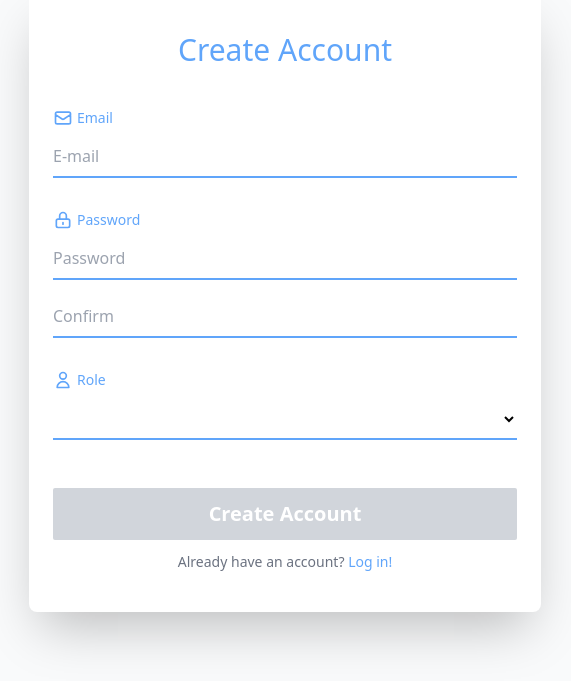
it: <CreateAccount /> › renders password not match error
Type "working@email.com" into the field with placeholder "E-mail" at (285, 157), box [53, 136, 517, 178]
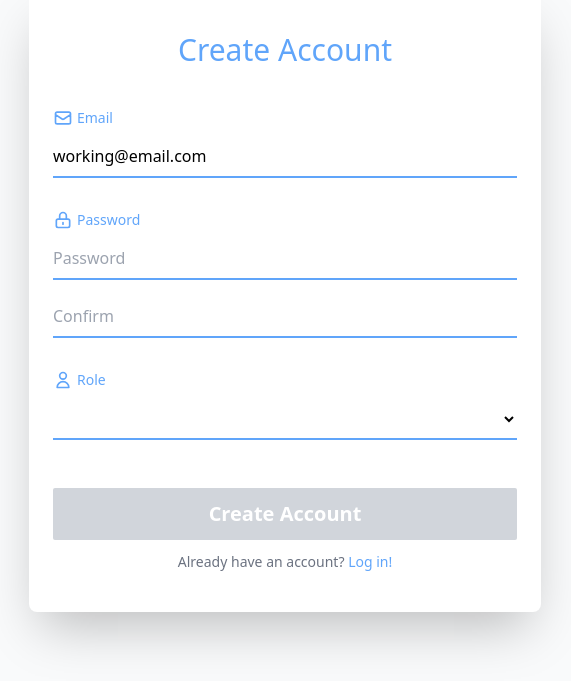
Type "aaaaaaaaaaaaa" into the password field with placeholder "Password" at (285, 259), box [53, 238, 517, 280]
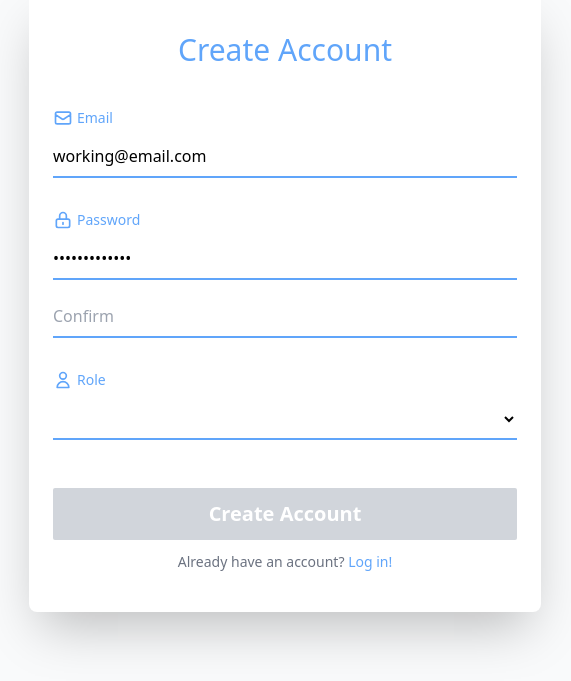
Type "bbbbbbbbbbbbb" into the password field with placeholder "Confirm" at (285, 317), box [53, 296, 517, 338]
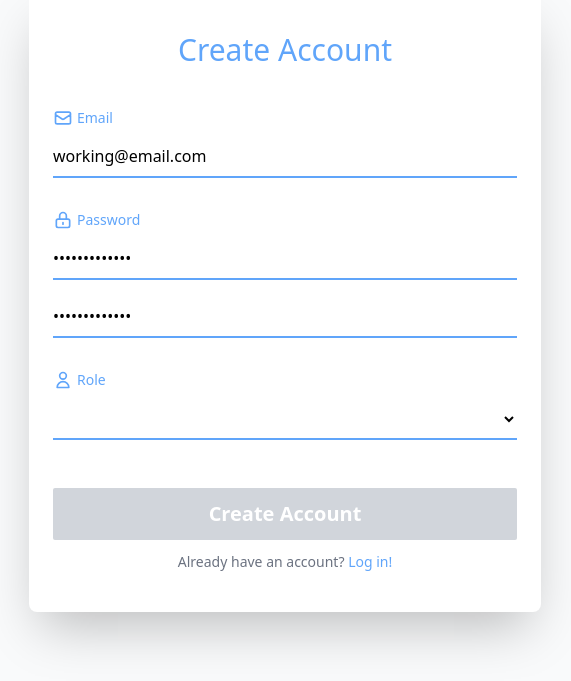
Click the button at (285, 514), box [53, 488, 517, 540]
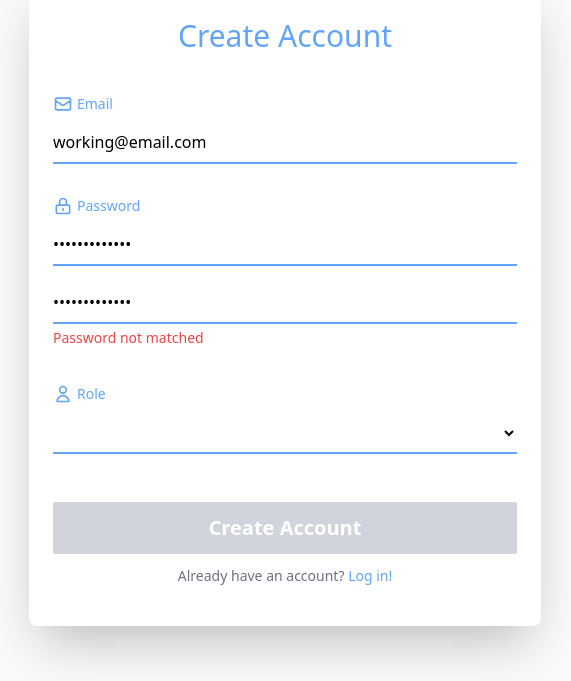
Expected: the message reads "Password not matched", [53, 328, 204, 347]
